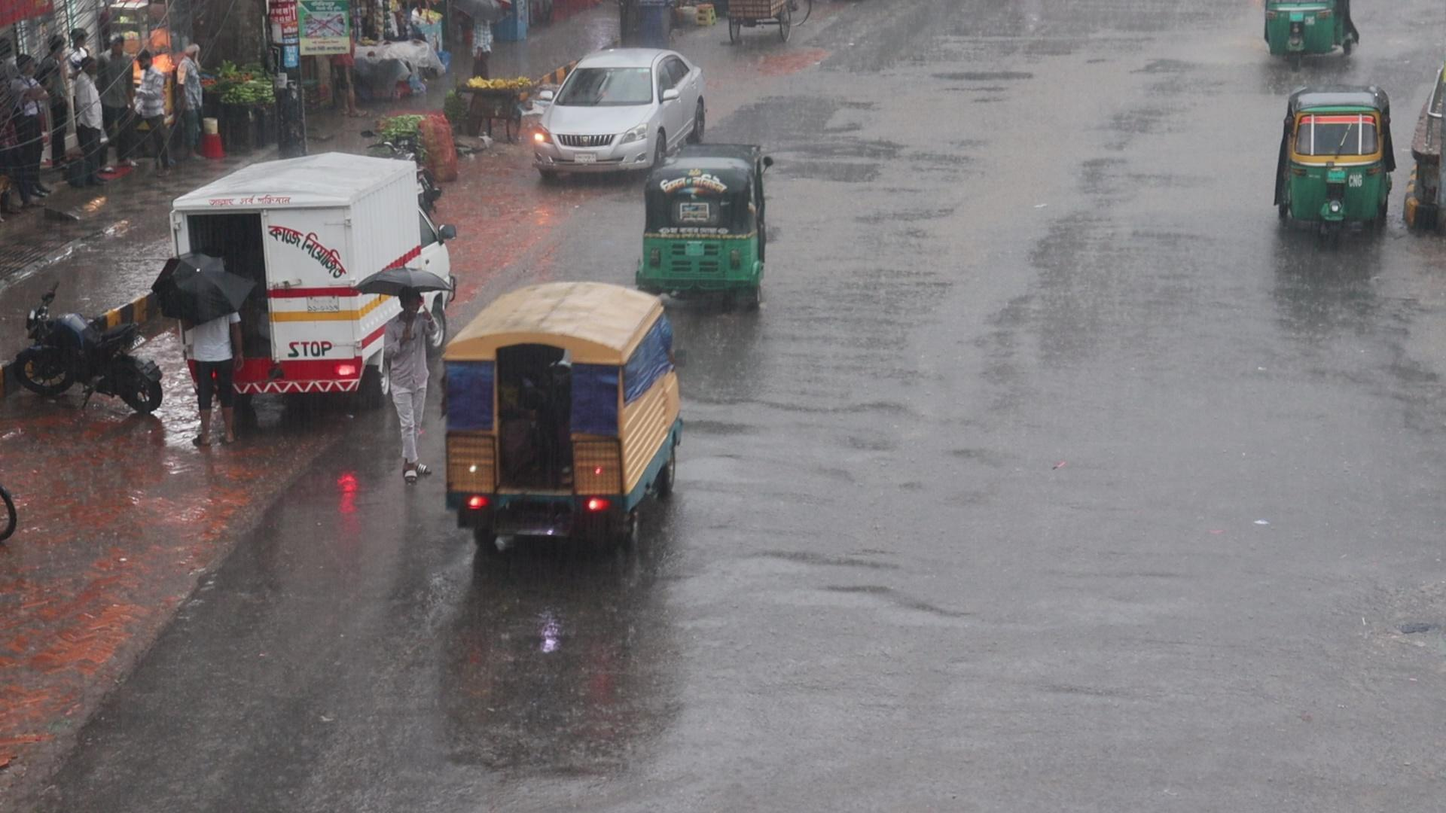Car: (532, 46, 708, 169)
Truck: (440, 279, 684, 549)
